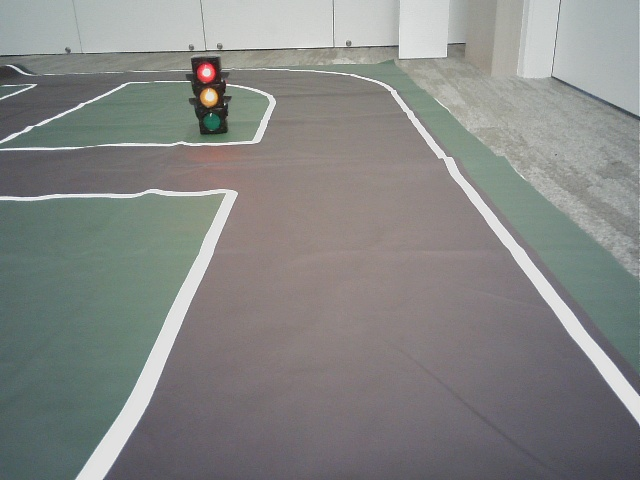red: (194, 59, 223, 133)
